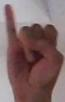I: (3, 4, 63, 90)
